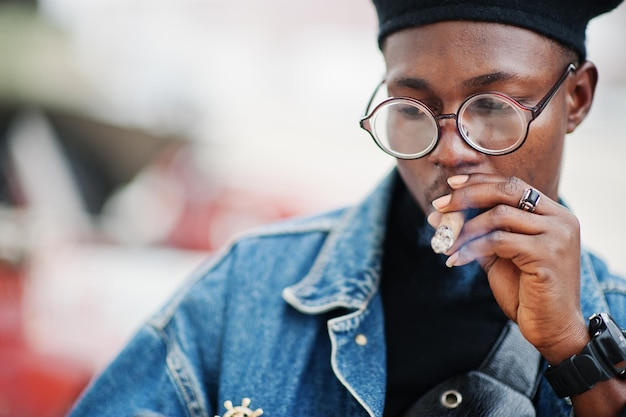cigarette: (433, 191, 472, 257)
